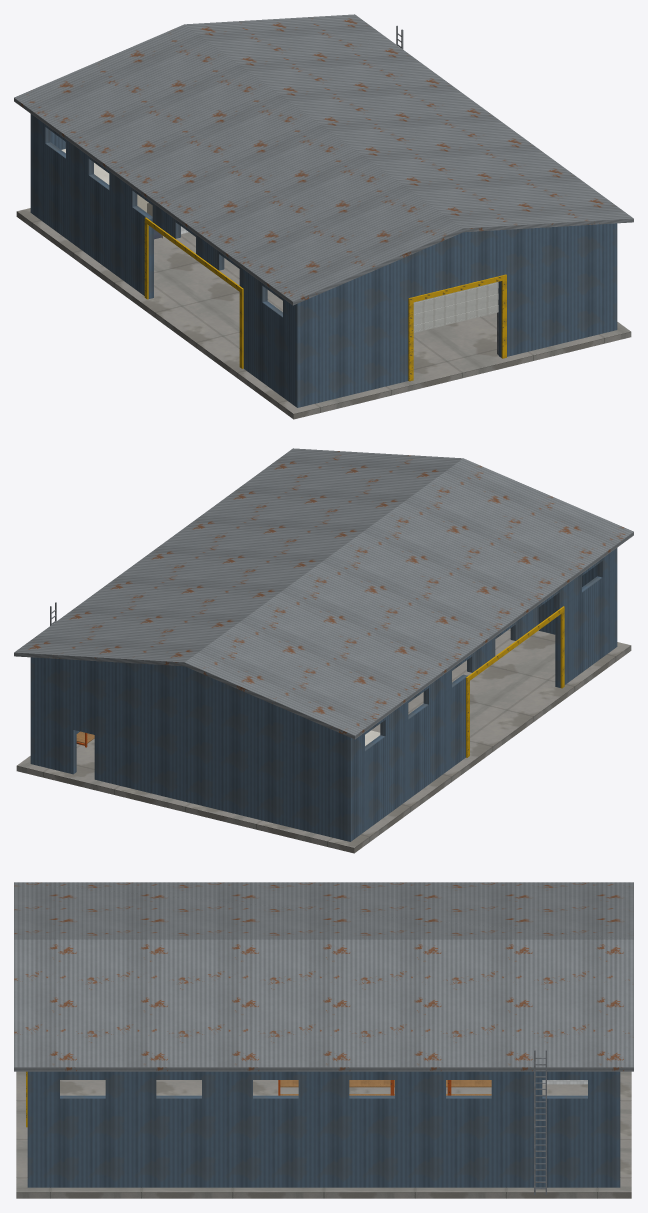
Rendered from warehouse.glb.
The picture shows the model from 3 angles, top to bottom: view 1: azimuth 30°, elevation 25°; view 2: azimuth 150°, elevation 25°; view 3: azimuth 270°, elevation 25°; orthographic projection. The views are drawn at different scales.
Parts seen in each view (by area): view 1: Roof_Left, Roof_Right, Floor, FrontWall_RightOfDoor, FrontWall_LeftOfDoor, LeftWall_LeftOfOpening, LeftWall_RightOfOpening, FrontWall_Gable, GarageDoor, FrontWall_AboveDoor, LeftWall_AboveWindows, SideOpeningFrame_Top (+1 smaller); view 2: Roof_Left, Roof_Right, BackWall_RightOfDoor, Floor, LeftWall_LeftOfOpening, BackWall_LeftOfDoor, LeftWall_RightOfOpening, BackWall_Gable, BackWall_AboveDoor, FrontWall_LeftOfDoor, LeftWall_AboveWindows, SideOpeningFrame_Top; view 3: Roof_Right, RightWall_BelowWindows, Roof_Left, Floor, RightWall_AboveWindows, RightWall_WindowPost_4, RightWall_WindowPost_6, RoofLadder, RightWall_WindowPost_3, RightWall_WindowPost_5, RightWall_WindowPost_2, FrontWall_RightOfDoor (+5 smaller).
Part boxes in pixels (x1,y1,x2,y2): Roof_Left: (14,24,463,305); Roof_Right: (185,14,633,232); Floor: (16,208,631,419); FrontWall_RightOfDoor: (498,223,617,357); FrontWall_LeftOfDoor: (294,268,412,407); LeftWall_LeftOfOpening: (34,135,153,298); LeftWall_RightOfOpening: (243,289,294,405); FrontWall_Gable: (337,225,589,286); GarageDoor: (413,282,498,332); FrontWall_AboveDoor: (413,246,501,296); LeftWall_AboveWindows: (34,116,294,308); SideOpeningFrame_Top: (145,218,243,293); Roof_Left: (184,458,633,739); Roof_Right: (14,448,462,666); BackWall_RightOfDoor: (94,668,353,841); Floor: (16,628,631,853); LeftWall_LeftOfOpening: (353,674,467,839); BackWall_LeftOfDoor: (30,657,76,774); LeftWall_RightOfOpening: (555,569,613,687); BackWall_Gable: (58,659,310,720); BackWall_AboveDoor: (73,663,94,734); FrontWall_LeftOfDoor: (538,548,617,648); LeftWall_AboveWindows: (353,550,613,742); SideOpeningFrame_Top: (466,607,564,681); Roof_Right: (14,939,633,1071); RightWall_BelowWindows: (34,1095,613,1187); Roof_Left: (14,882,633,939); Floor: (16,1071,631,1198); RightWall_AboveWindows: (34,1071,613,1079); RightWall_WindowPost_4: (298,1080,349,1098); RightWall_WindowPost_6: (105,1080,156,1098); RoofLadder: (534,1050,546,1194); RightWall_WindowPost_3: (395,1080,445,1098); RightWall_WindowPost_5: (202,1080,252,1098); RightWall_WindowPost_2: (491,1080,542,1098); FrontWall_RightOfDoor: (27,1071,34,1187).
Size of the model in its own units: 19.38 by 8.1 by 27.2.
Materials: 17 (14 with a texture image).
